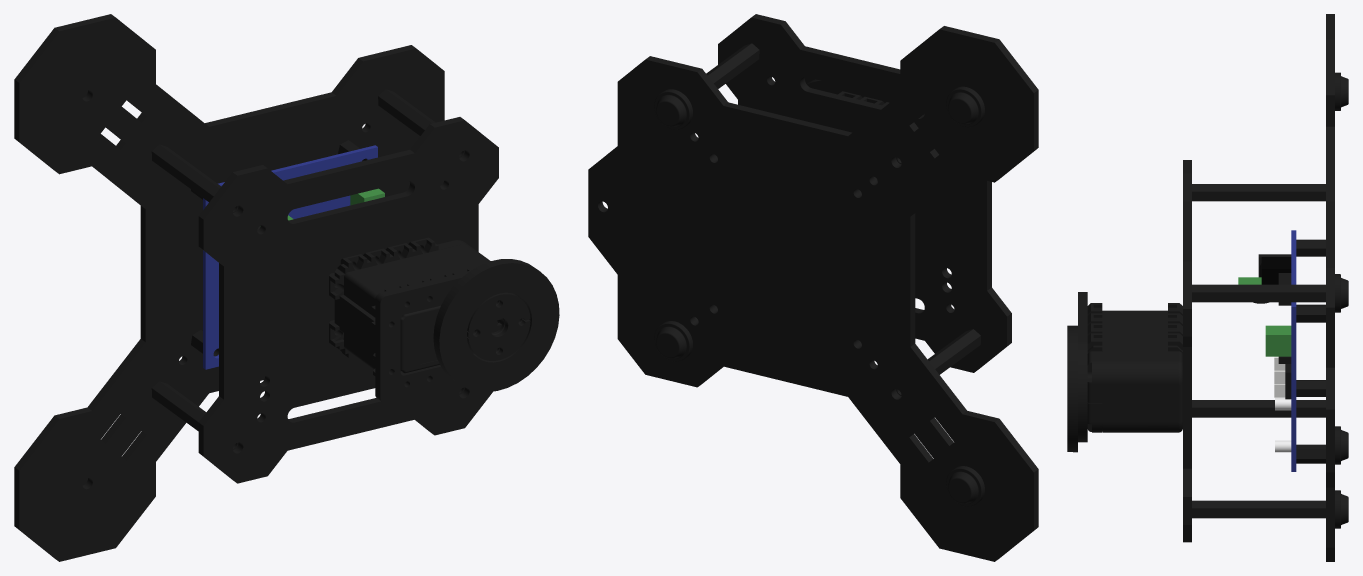
3 renders of one model, left to right at view 1: azimuth 30°, elevation 25°; view 2: azimuth 150°, elevation 25°; view 3: azimuth 270°, elevation 25°, orthographic. The views are drawn at different scales.
Parts seen in each view (by area): view 1: PincherBase, _ncl1_3, _ncl1_19; view 2: PincherBase; view 3: PincherBase, _ncl1_3, _ncl1_19, _ncl1_8, _ncl1_11, _ncl1_13, FBXASC0490mmFBXASC032standoffFBXASC032v1_ncl1_1, FBXASC0490mmFBXASC032standoffFBXASC032v1, FBXASC0490mmFBXASC032standoffFBXASC032v1_ncl1_3, FBXASC0490mmFBXASC032standoffFBXASC032v1_ncl1_2, _ncl1_5, _ncl1_16.
Boxes of the visible parts, left/top/right/bottom form: PincherBase: left=14, top=14, right=531, bottom=561; _ncl1_3: left=433, top=259, right=559, bottom=392; _ncl1_19: left=203, top=145, right=377, bottom=369; PincherBase: left=588, top=14, right=1038, bottom=561; PincherBase: left=1078, top=14, right=1348, bottom=561; _ncl1_3: left=1067, top=325, right=1077, bottom=452; _ncl1_19: left=1291, top=230, right=1296, bottom=471; _ncl1_8: left=1238, top=277, right=1291, bottom=356; _ncl1_11: left=1253, top=254, right=1291, bottom=399; _ncl1_13: left=1261, top=257, right=1291, bottom=284; FBXASC0490mmFBXASC032standoffFBXASC032v1_ncl1_1: left=1296, top=444, right=1325, bottom=463; FBXASC0490mmFBXASC032standoffFBXASC032v1: left=1296, top=304, right=1325, bottom=322; FBXASC0490mmFBXASC032standoffFBXASC032v1_ncl1_3: left=1296, top=239, right=1325, bottom=256; FBXASC0490mmFBXASC032standoffFBXASC032v1_ncl1_2: left=1296, top=380, right=1325, bottom=396; _ncl1_5: left=1274, top=356, right=1285, bottom=397; _ncl1_16: left=1275, top=398, right=1291, bottom=452.
Bounding box in the file's own units: 0.161 × 0.1792 × 0.0944.
